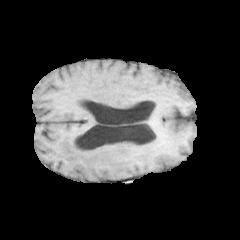glioma: (53, 121, 184, 174)
